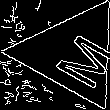M_NW: (34, 21, 110, 87)
